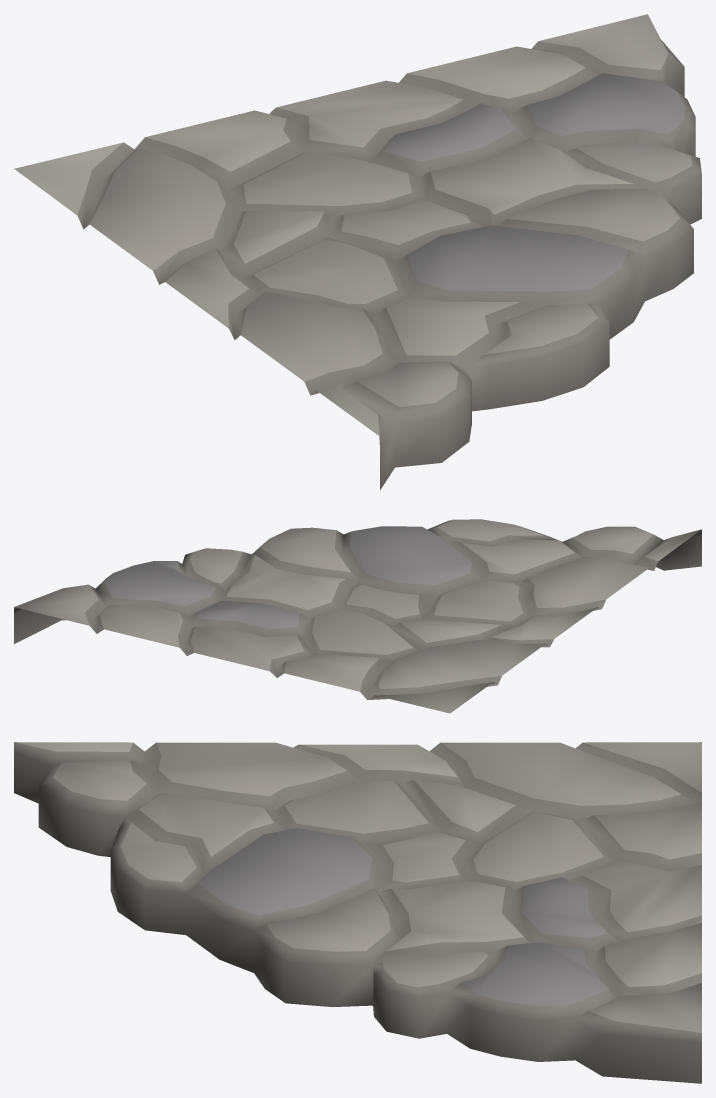
Rendered from rpgpp_ag_floor_03a_3x3_ext_01_right.fbx.
3 renders of one model, top to bottom at view 1: azimuth 30°, elevation 25°; view 2: azimuth 150°, elevation 25°; view 3: azimuth 270°, elevation 25°, orthographic. The views are drawn at different scales.
Parts seen in each view (by area): view 1: rpgpp_ag_floor_03a_3x3_ext_01_right; view 2: rpgpp_ag_floor_03a_3x3_ext_01_right; view 3: rpgpp_ag_floor_03a_3x3_ext_01_right.
Part boxes in pixels (x1,y1,x2,y2): rpgpp_ag_floor_03a_3x3_ext_01_right: [14, 14, 701, 490]; rpgpp_ag_floor_03a_3x3_ext_01_right: [14, 519, 701, 713]; rpgpp_ag_floor_03a_3x3_ext_01_right: [14, 742, 701, 1083].
Bounding box in the file's own units: 3 × 0.245 × 3.
